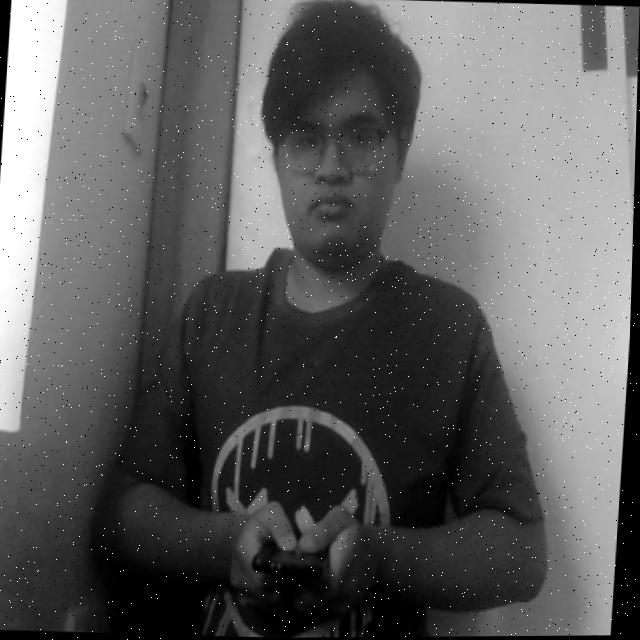phone: (247, 499, 353, 603)
